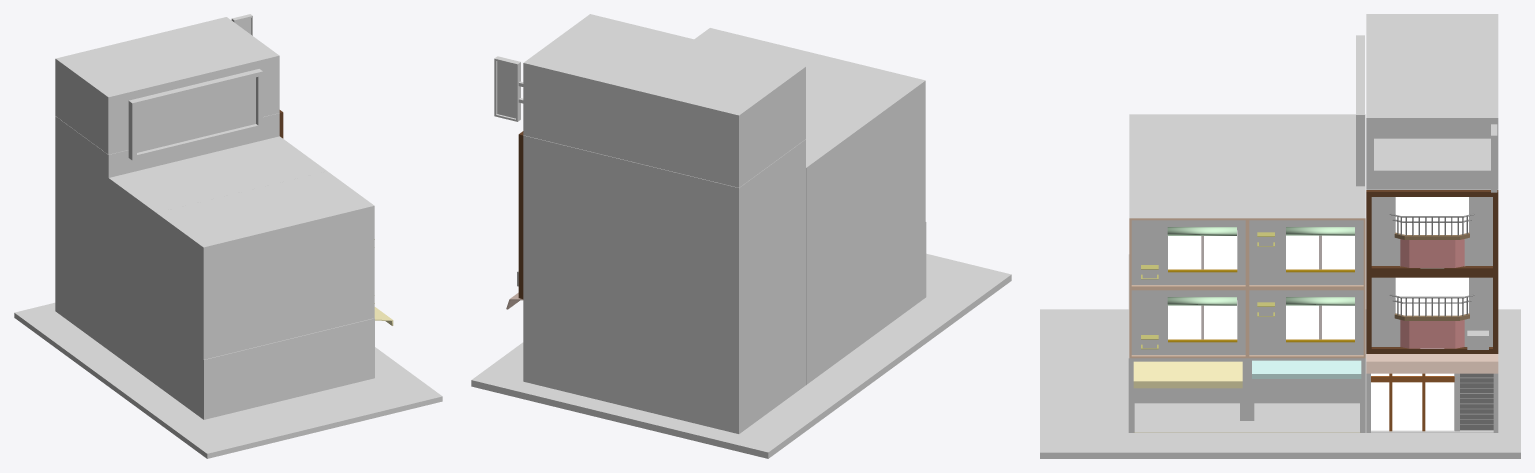
3 views of the same model, side by side, from view 1: azimuth 30°, elevation 25°; view 2: azimuth 150°, elevation 25°; view 3: azimuth 270°, elevation 25° (orthographic). The views are drawn at different scales.
Visible parts, largest first — view 1: 平面.017, 平面.012, 平面, 平面.010, 平面.016, 平面.015, 平面.021, 平面.002, 平面.001, 平面.004, 平面.013; view 2: 平面.010, 平面.002, 平面.004, 平面.001, 平面, 平面.017, 平面.012, 平面.015, 平面.016, 平面.013, 平面.011; view 3: 平面, 平面.010, 平面.017, 平面.015, 平面.012, 平面.002, 平面.001, 平面.004, 平面.013, 平面.016, 平面.021, 平面.005 (+6 smaller).
Boxes of the visible parts, bbox=[...] form: 平面.017: bbox=[156, 171, 374, 303]; 平面.012: bbox=[108, 291, 393, 419]; 平面: bbox=[14, 302, 442, 458]; 平面.010: bbox=[55, 17, 279, 154]; 平面.016: bbox=[156, 262, 374, 359]; 平面.015: bbox=[108, 136, 326, 268]; 平面.021: bbox=[128, 69, 262, 160]; 平面.002: bbox=[55, 110, 283, 219]; 平面.001: bbox=[55, 246, 108, 349]; 平面.004: bbox=[55, 181, 108, 284]; 平面.013: bbox=[108, 234, 156, 324]; 平面.010: bbox=[523, 14, 805, 187]; 平面.002: bbox=[518, 131, 805, 269]; 平面.004: bbox=[518, 216, 805, 351]; 平面.001: bbox=[506, 292, 805, 433]; 平面: bbox=[471, 253, 1011, 458]; 平面.017: bbox=[694, 28, 925, 194]; 平面.012: bbox=[806, 222, 926, 384]; 平面.015: bbox=[806, 109, 866, 238]; 平面.016: bbox=[865, 151, 925, 265]; 平面.013: bbox=[806, 195, 866, 309]; 平面.011: bbox=[494, 56, 523, 121]; 平面: bbox=[1040, 309, 1520, 458]; 平面.010: bbox=[1366, 14, 1498, 189]; 平面.017: bbox=[1129, 114, 1247, 288]; 平面.015: bbox=[1247, 114, 1365, 288]; 平面.012: bbox=[1128, 254, 1365, 432]; 平面.002: bbox=[1366, 189, 1498, 273]; 平面.001: bbox=[1366, 354, 1498, 432]; 平面.004: bbox=[1366, 273, 1498, 353]; 平面.013: bbox=[1247, 288, 1365, 358]; 平面.016: bbox=[1129, 288, 1247, 358]; 平面.021: bbox=[1356, 35, 1364, 186]; 平面.005: bbox=[1389, 294, 1474, 316].
Size of the model in its own units: 861 by 901 by 1222.
